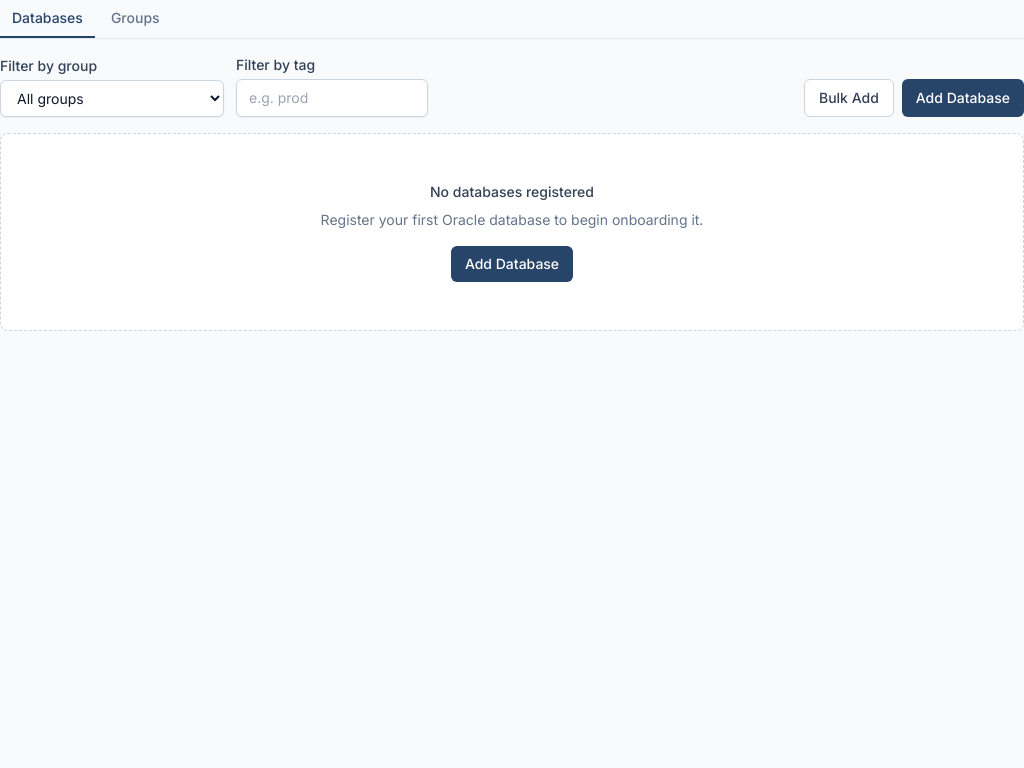
Test case: DatabasesPage › opens the bulk-add modal
This screenshot has width=1024, height=768.
Expected: the text "No databases registered" is shown, x1=430 y1=182 x2=594 y2=202
Step 1. Click the button "Bulk Add" → (849, 98), box x1=804 y1=79 x2=894 y2=117
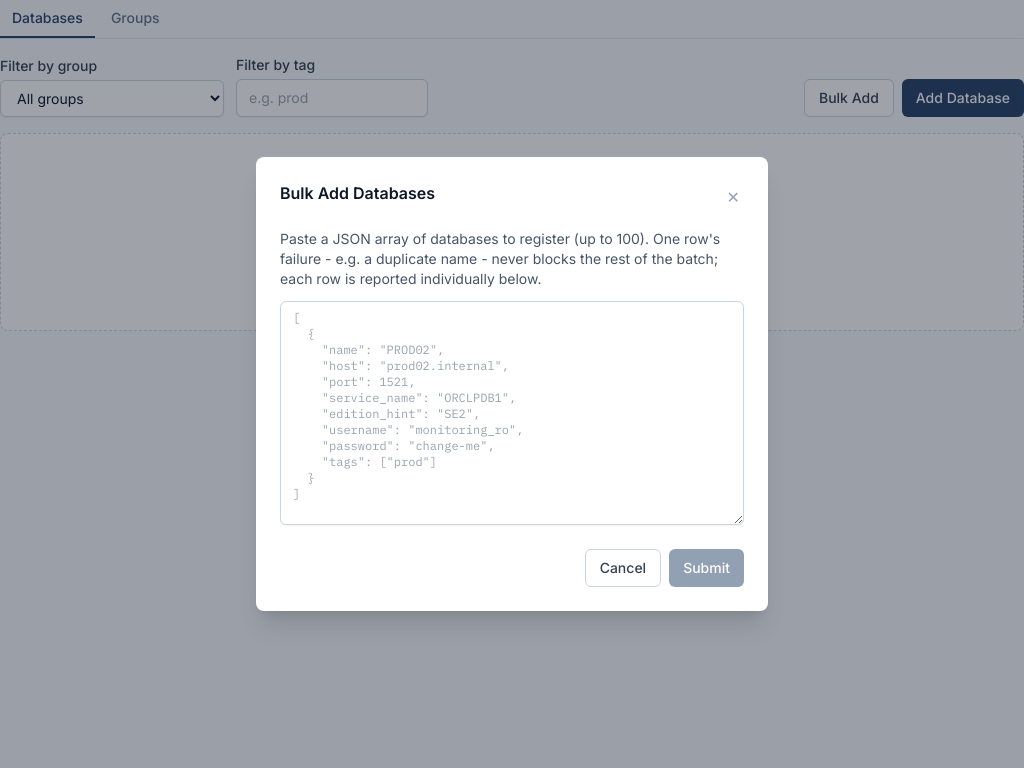
Result: the heading "Bulk Add Databases" is shown at x1=280 y1=181 x2=435 y2=205
